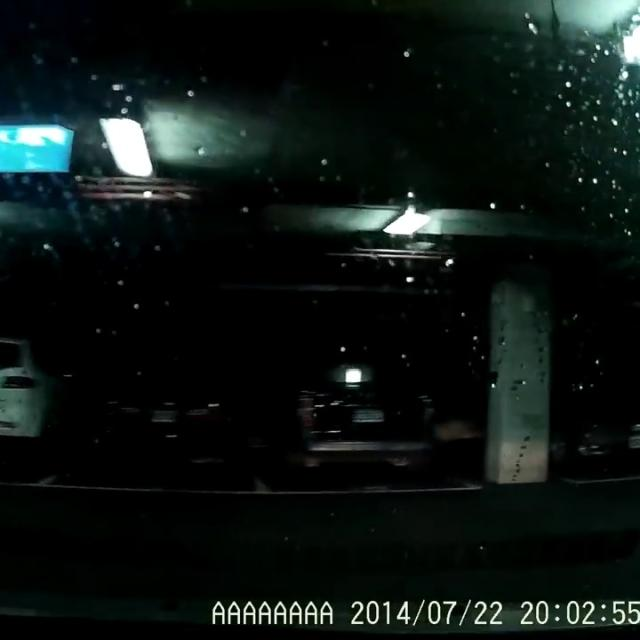Car: (83, 362, 265, 489), (286, 331, 440, 472), (0, 333, 70, 455)
